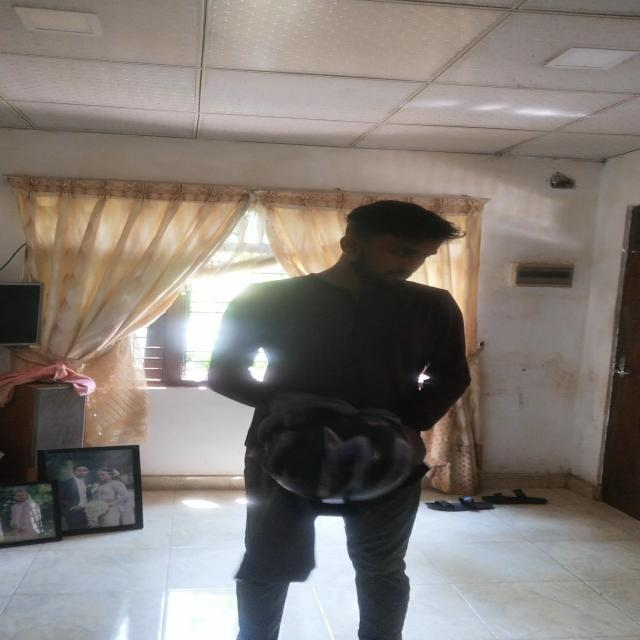Person: (225, 197, 472, 640)
